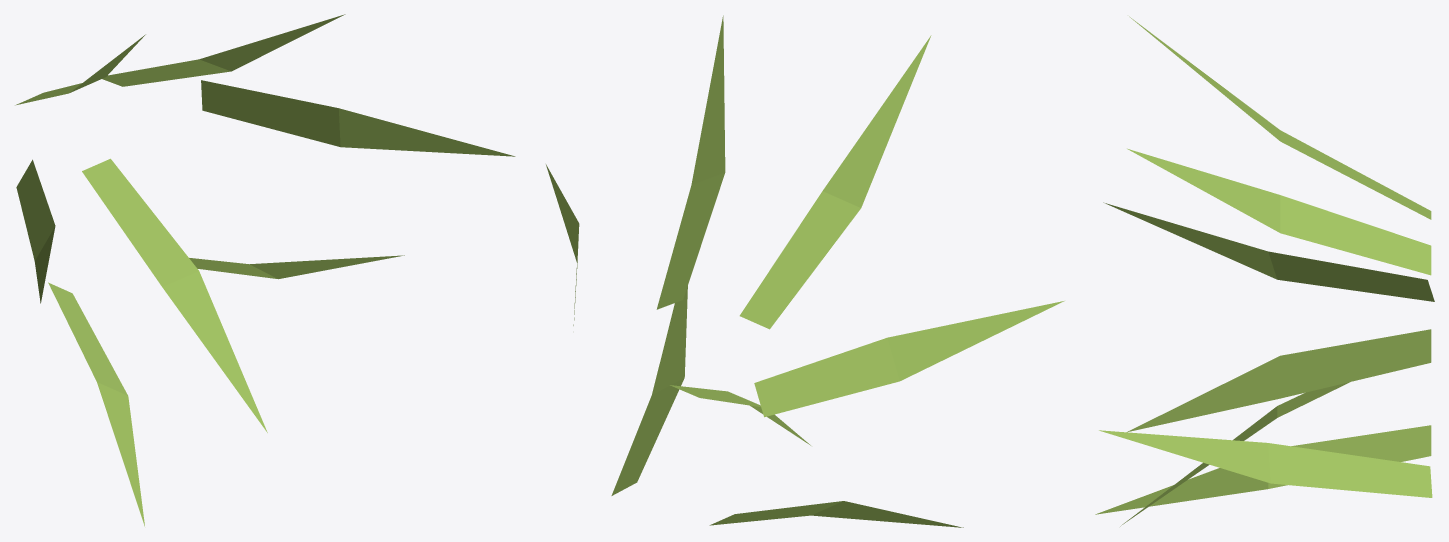
The model's file is grass1.gltf.
3 views of the same model, side by side, from view 1: azimuth 30°, elevation 25°; view 2: azimuth 150°, elevation 25°; view 3: azimuth 270°, elevation 25° (orthographic). The views are drawn at different scales.
Visible parts, largest first — view 1: Grass_1_1; view 2: Grass_1_1; view 3: Grass_1_1.
Boxes of the visible parts, x1,y1,x2,y2 form: Grass_1_1: (15,14,515,526); Grass_1_1: (546,15,1064,527); Grass_1_1: (1095,16,1434,526).
Bounding box in the file's own units: 0.7736 × 0.7278 × 0.4414.
